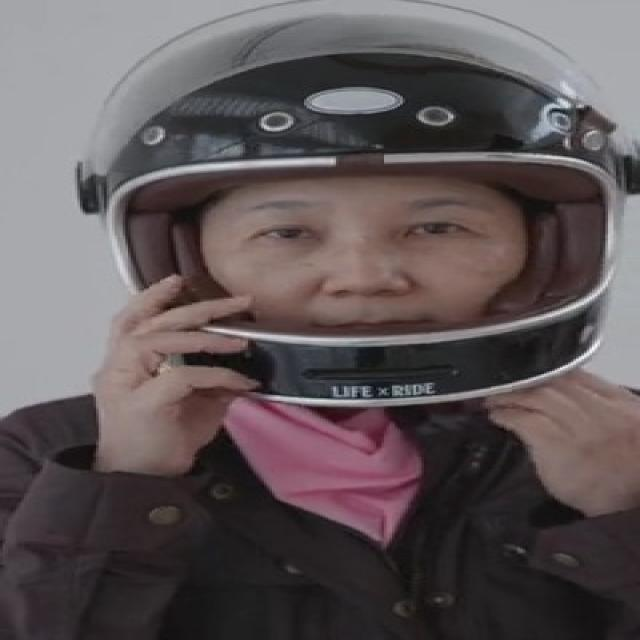Helmet_Wearer: (90, 4, 612, 396)
Person: (0, 0, 640, 640)
